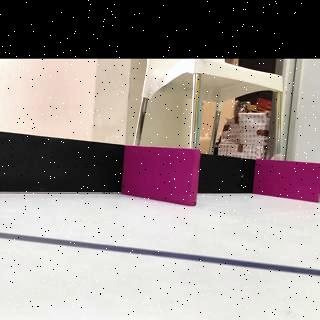xparking: (128, 149, 196, 205), (257, 162, 320, 196)
